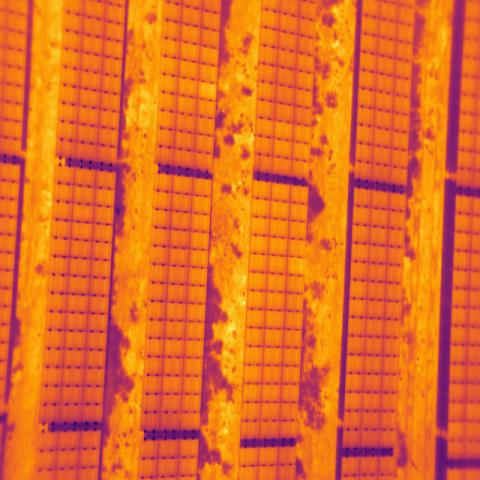fault: (198, 80, 218, 102), (287, 256, 306, 277)
